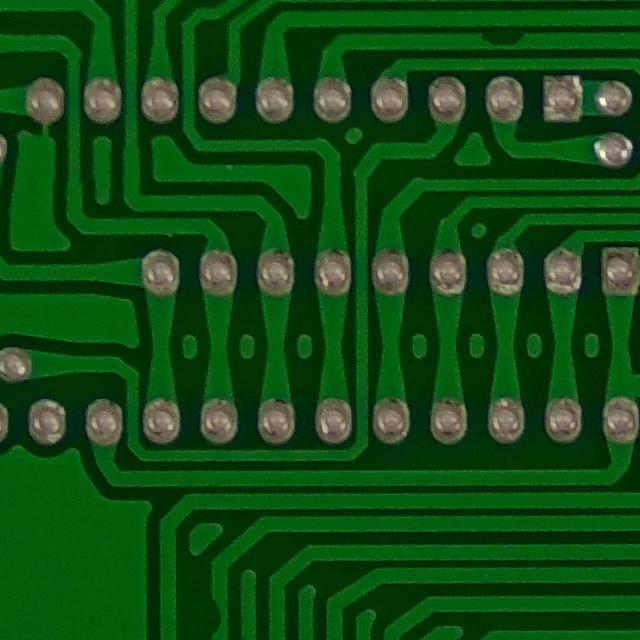mouse_bite: (466, 21, 535, 55), (194, 588, 230, 640)
